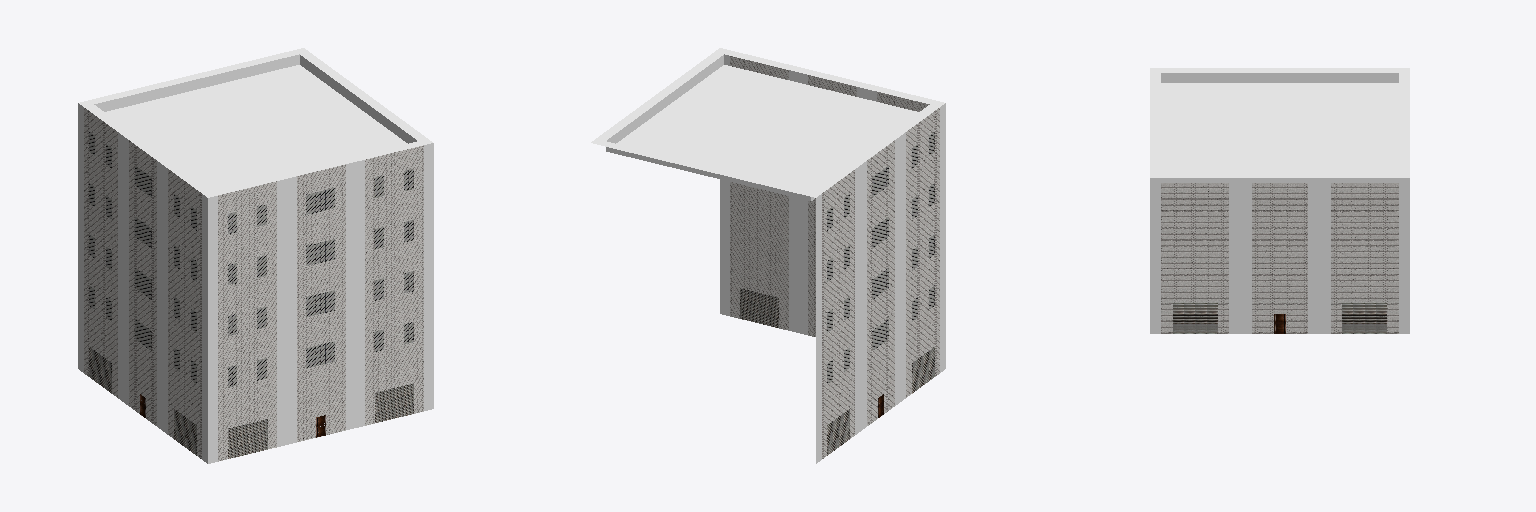
3 views of the same model, side by side, from view 1: azimuth 30°, elevation 25°; view 2: azimuth 150°, elevation 25°; view 3: azimuth 270°, elevation 25° (orthographic).
Parts seen in each view (by area): view 1: ShortBuilding2; view 2: ShortBuilding2; view 3: ShortBuilding2.
Boxes of the visible parts, x1=… form: ShortBuilding2: x1=78, y1=48, x2=433, y2=463; ShortBuilding2: x1=591, y1=48, x2=945, y2=463; ShortBuilding2: x1=1150, y1=68, x2=1409, y2=333.
Bounding box in the file's own units: 23.08 × 26 × 23.01.
6 materials, 4 textured.